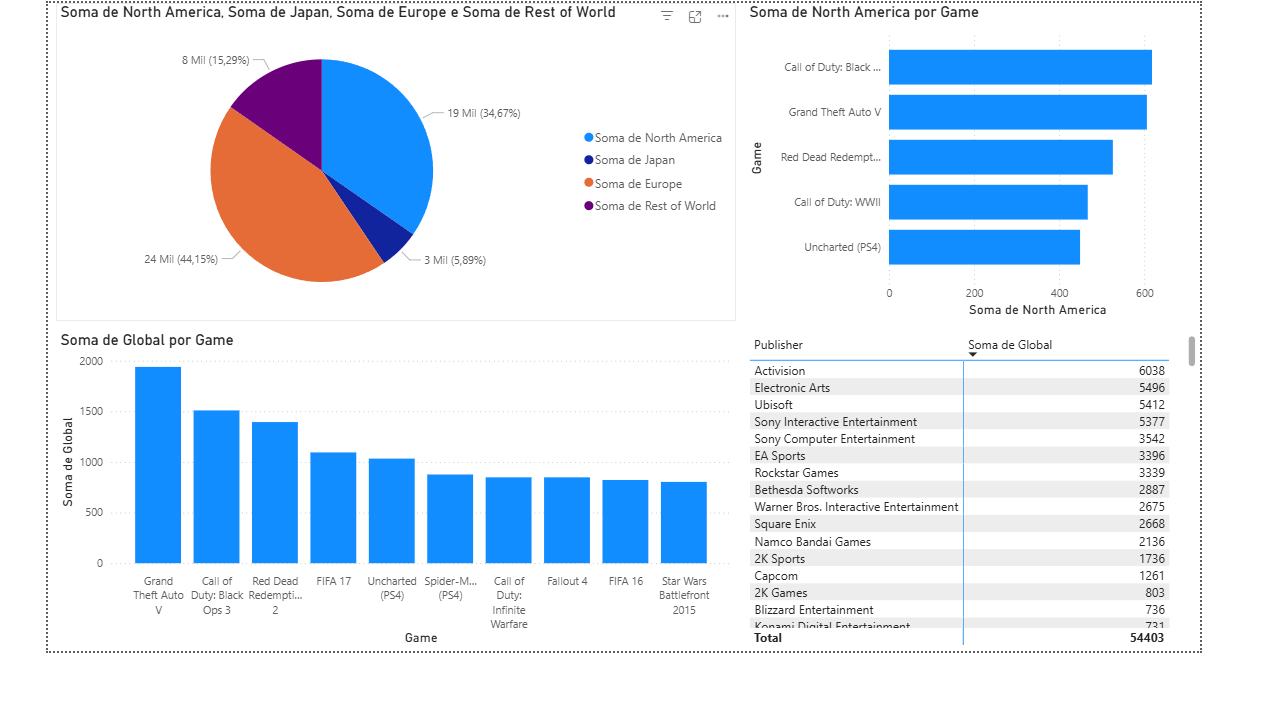

What the dashboard file says about the page in this screenshot:
{"tool":"powerbi","page":{"name":"Relátório de games ","canvas":[1280,720],"ordinal":0},"visuals":[{"type":"pieChart","fields":{"Y":["Sum(PS4_GamesSales.North America)","Sum(PS4_GamesSales.Japan)","Sum(PS4_GamesSales.Europe)","Sum(PS4_GamesSales.Rest of World)"]},"box":[9.3,0,754.6,353.7],"z":0},{"type":"clusteredColumnChart","fields":{"Category":["PS4_GamesSales.Game"],"Y":["Sum(PS4_GamesSales.Global)"]},"box":[9,364,755,354],"z":1000},{"type":"clusteredBarChart","fields":{"Category":["PS4_GamesSales.Game"],"Y":["Sum(PS4_GamesSales.North America)"]},"box":[774,0,506,354],"z":2000},{"type":"pivotTable","fields":{"Rows":["PS4_GamesSales.Publisher"],"Values":["Sum(PS4_GamesSales.Global)"]},"box":[774,364,506,354],"z":3000}]}

Visuals, with their boxes in screenshot pixels (x1, y1, x2, y2), scaled from the page's 1280x720 canvas onto the 1266x713 screenshot:
pieChart - Sum(PS4_GamesSales.North America) x Sum(PS4_GamesSales.Japan): (9, 0, 756, 350)
clusteredColumnChart - PS4_GamesSales.Game x Sum(PS4_GamesSales.Global): (9, 360, 756, 711)
clusteredBarChart - PS4_GamesSales.Game x Sum(PS4_GamesSales.North America): (766, 0, 1265, 351)
pivotTable - PS4_GamesSales.Publisher x Sum(PS4_GamesSales.Global): (766, 360, 1265, 711)
